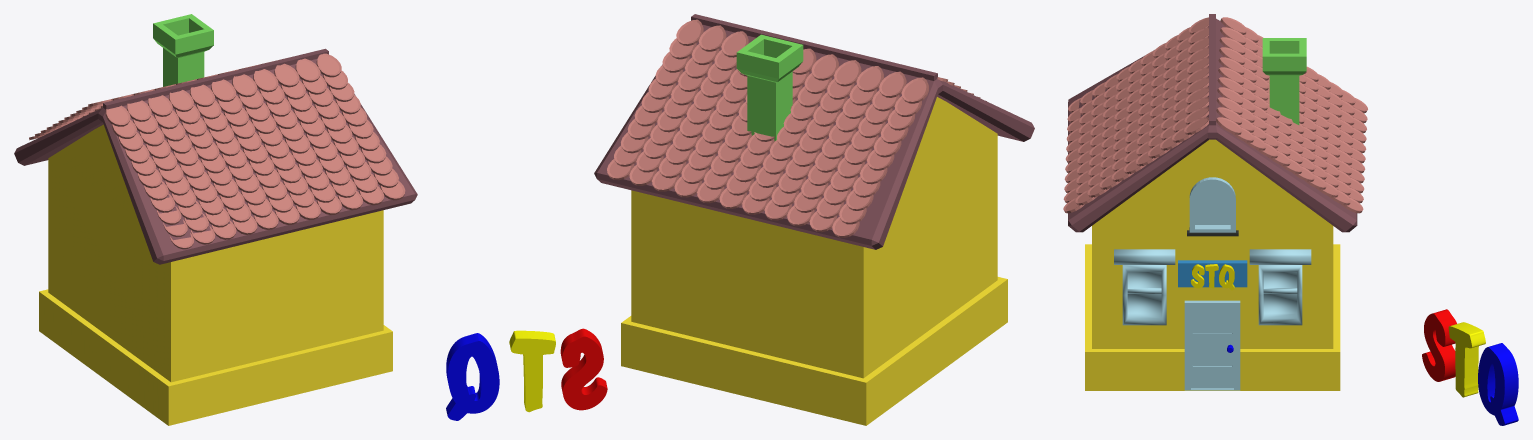
The model's file is house.glb.
3 renders of one model, left to right at view 1: azimuth 30°, elevation 25°; view 2: azimuth 150°, elevation 25°; view 3: azimuth 270°, elevation 25°, orthographic. The views are drawn at different scales.
Parts seen in each view (by area): view 1: body, 瓦片, roof, 烟囱; view 2: body, 瓦片, roof, 烟囱, Q, S, T; view 3: body, 瓦片, roof, 两侧窗户, 门, 烟囱, Q, 上方窗户, S, T, 门牌, STQ.
Boxes of the visible parts, <box> form: body: <box>39,124,392,425</box>; 瓦片: <box>29,53,405,249</box>; roof: <box>14,48,417,264</box>; 烟囱: <box>153,14,213,86</box>; body: <box>621,97,1007,425</box>; 瓦片: <box>607,19,986,237</box>; roof: <box>594,14,1034,249</box>; 烟囱: <box>736,34,803,141</box>; Q: <box>446,333,499,420</box>; S: <box>560,328,607,410</box>; T: <box>509,330,555,412</box>; body: <box>1085,139,1340,390</box>; 瓦片: <box>1063,17,1367,213</box>; roof: <box>1068,14,1357,232</box>; 两侧窗户: <box>1114,249,1311,325</box>; 门: <box>1184,300,1240,390</box>; 烟囱: <box>1262,38,1306,124</box>; Q: <box>1478,343,1518,425</box>; 上方窗户: <box>1189,177,1235,232</box>; S: <box>1422,309,1456,381</box>; T: <box>1448,322,1485,397</box>; 门牌: <box>1178,260,1247,287</box>; STQ: <box>1190,264,1234,290</box>.
Size of the model in its own units: 6.01 by 5.34 by 7.55.
